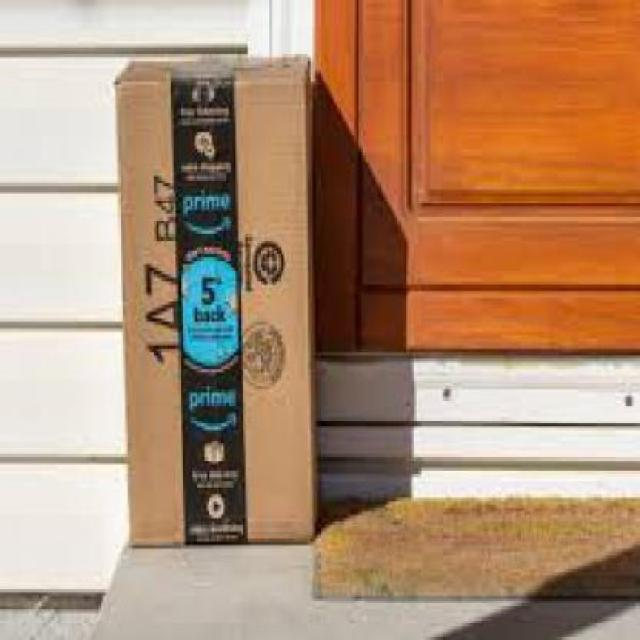cardboxes: (111, 53, 320, 553)
